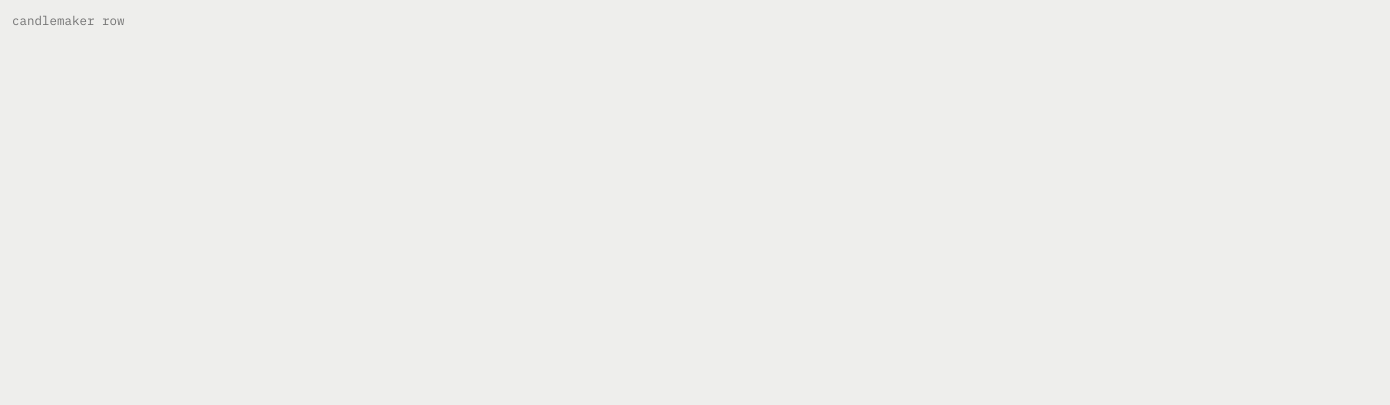
Test: uses the settled map center as the pin and as the next search bias
This screenshot has width=1390, height=405.
Later steps or results of the test are not shown.
Click the dropdown at (695, 20), box [12, 12, 1378, 28]
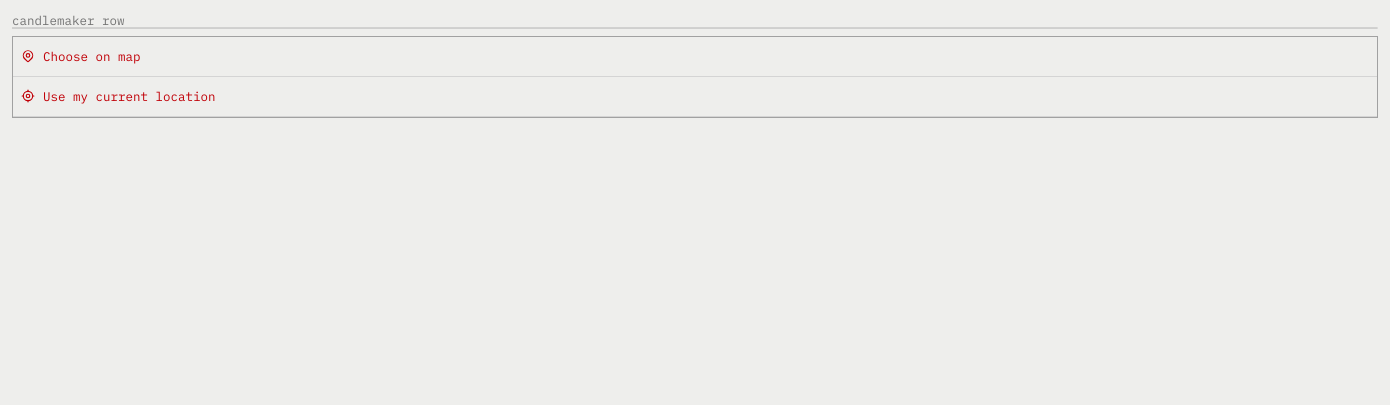
Click the button "Choose on map" at (92, 56), box [13, 37, 1377, 77]
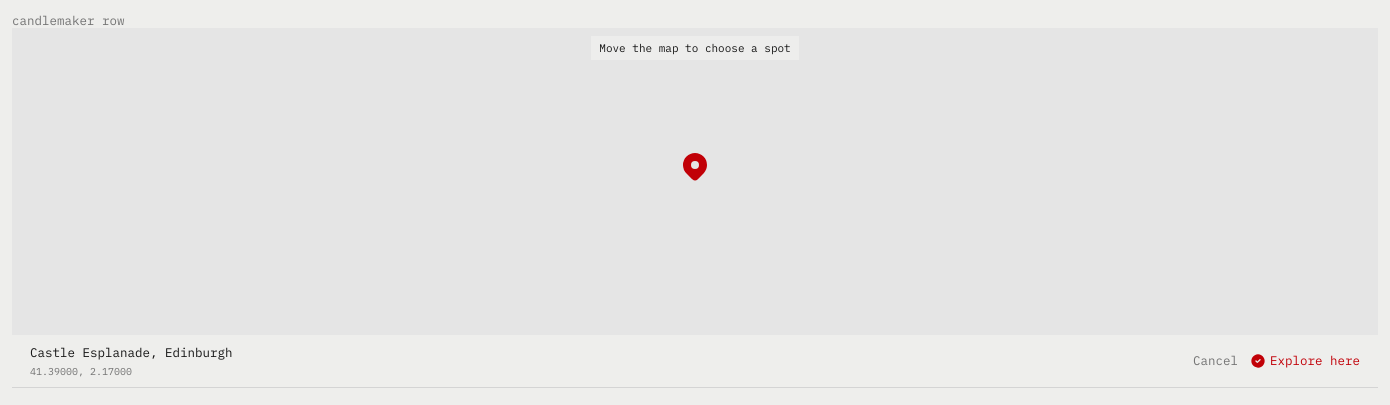
Expected: the text "Castle Esplanade, Edinburgh" is shown, [30, 344, 232, 360]
Type "museum" into the dropdown at (695, 20), box [12, 12, 1378, 28]
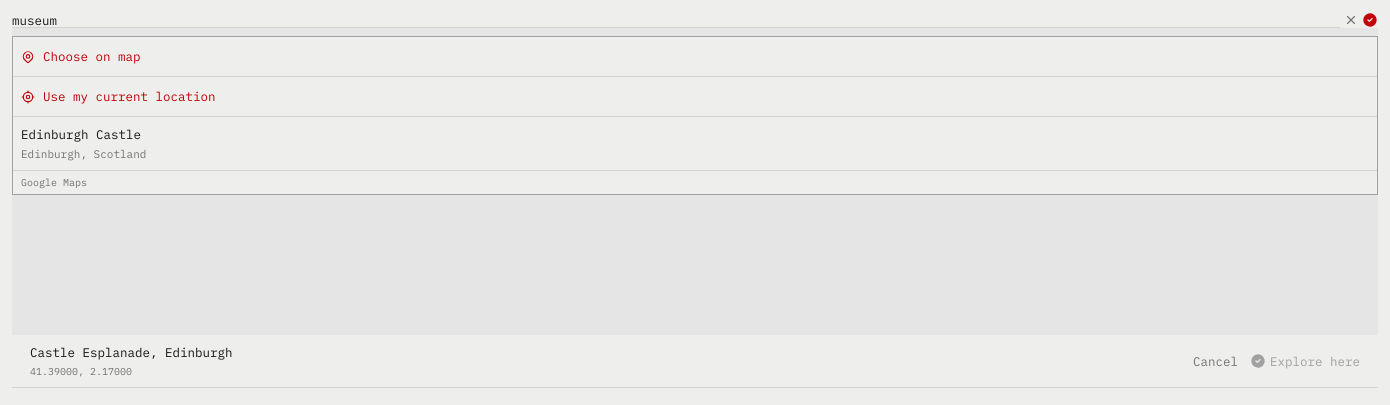
Expected: the option "Edinburgh Castle Edinburgh, Scotland" is shown, [13, 117, 1377, 171]
